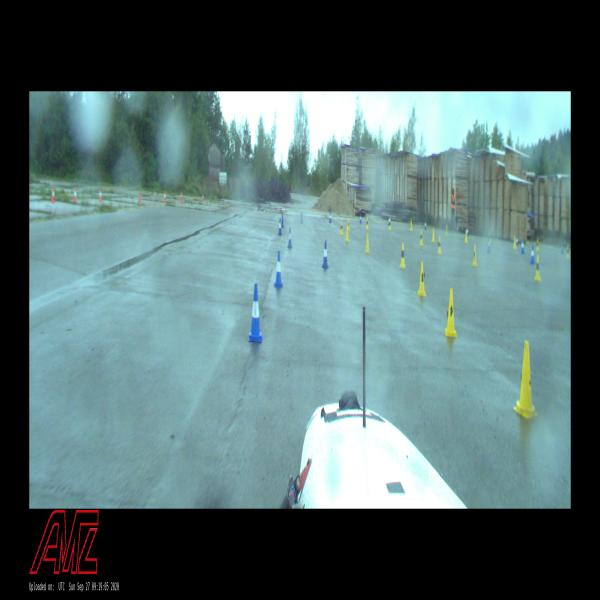blue_cone: (248, 284, 263, 342), (274, 251, 283, 287), (322, 241, 329, 268), (287, 227, 292, 248), (530, 245, 535, 264), (278, 218, 282, 235), (521, 238, 524, 254), (281, 214, 284, 228), (329, 212, 332, 223), (300, 212, 302, 224), (360, 213, 362, 224), (424, 219, 426, 230)
orange_cone: (74, 188, 76, 201), (52, 189, 54, 202), (100, 190, 102, 201), (138, 191, 140, 202), (164, 192, 166, 202), (202, 194, 204, 202), (181, 192, 182, 201)
yellow_cone: (513, 340, 537, 419), (444, 289, 457, 337), (418, 262, 426, 296), (399, 243, 406, 268), (534, 256, 540, 280), (472, 245, 477, 266), (365, 234, 370, 253), (437, 236, 441, 254), (345, 226, 349, 242), (419, 230, 423, 245), (340, 220, 343, 235), (566, 243, 569, 258), (387, 218, 391, 229), (535, 239, 539, 250), (366, 217, 369, 230), (464, 229, 467, 242), (347, 219, 350, 230), (432, 228, 434, 241), (514, 236, 516, 248), (410, 220, 412, 231)
